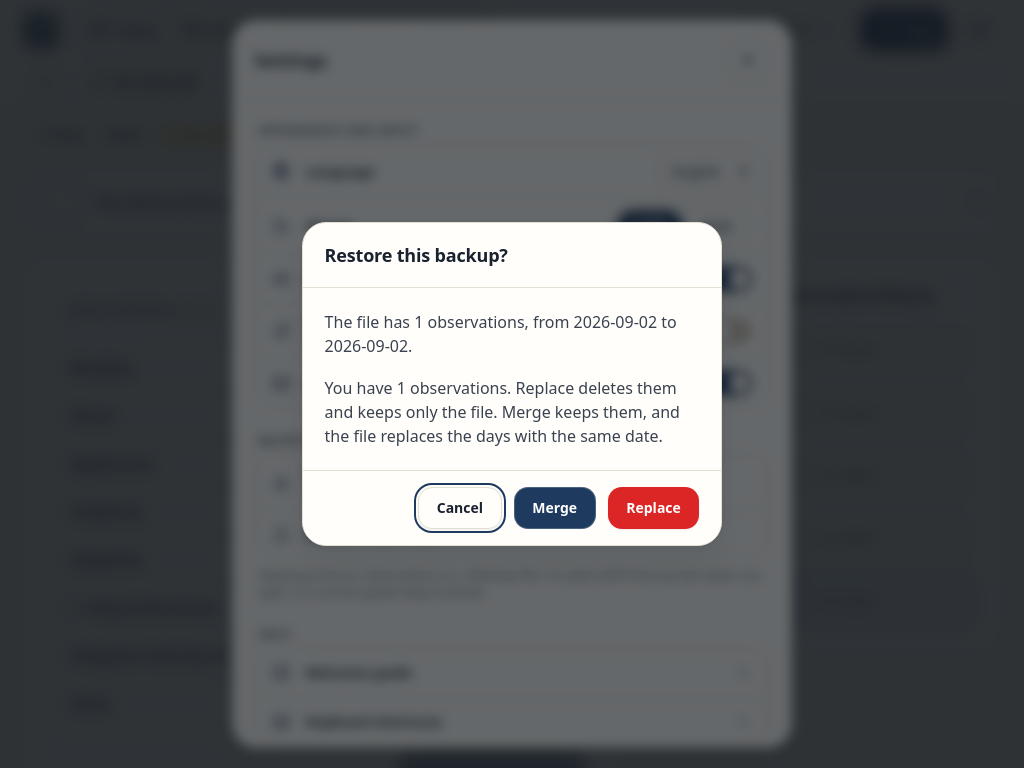
it: App launched from a shortcut of the app icon › restores a backup file that the user opened with the app, after the confirmation
Click the button "Merge" at (555,508), box [514,487,596,529]
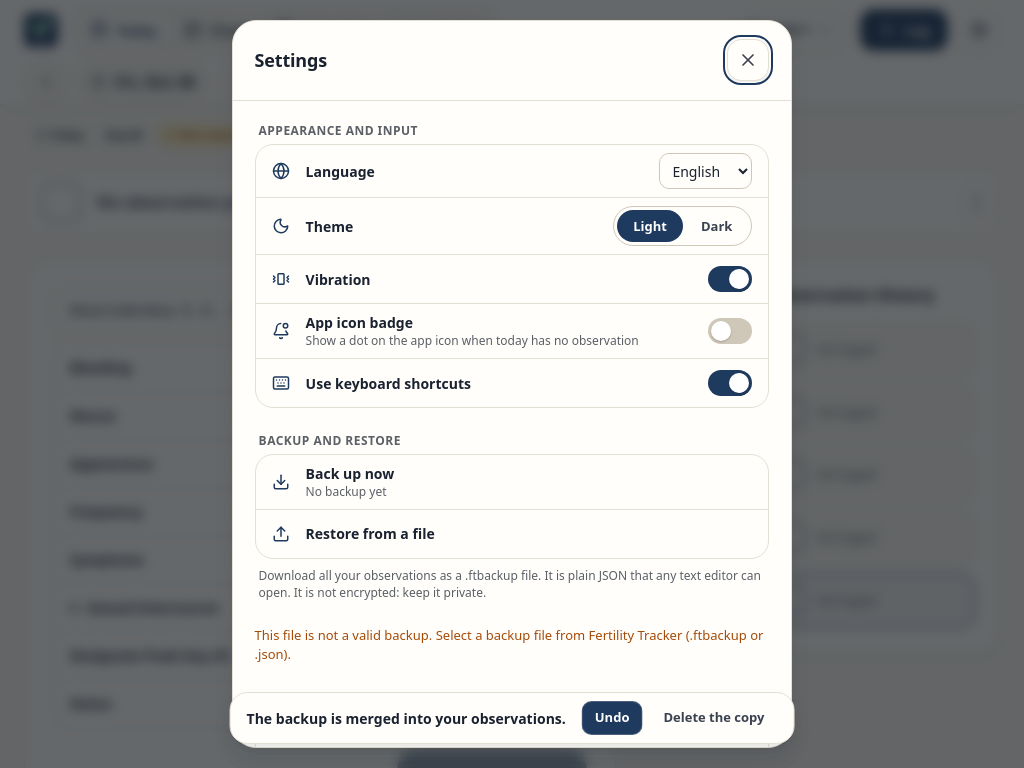
Expected: the 1st message shows "This file is not a valid backup. Select a backup file from Fertility Tracker (.ftbackup or .json).", [255,626,763,663]
